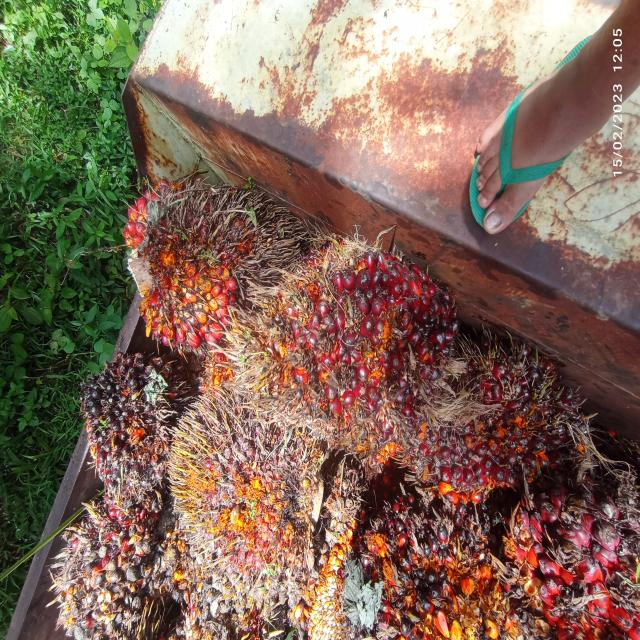fraksi 00: (141, 362, 341, 584), (60, 345, 210, 530)
fraksi 1: (236, 200, 464, 483), (417, 319, 579, 516)
fraksi 3: (102, 178, 282, 352)
